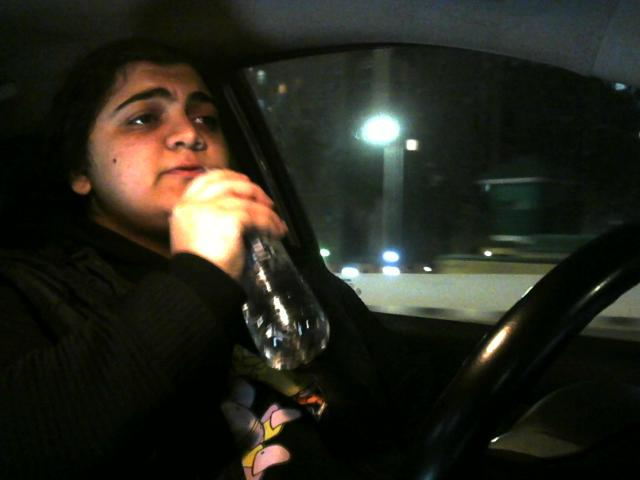Drinking: (69, 63, 329, 369)
